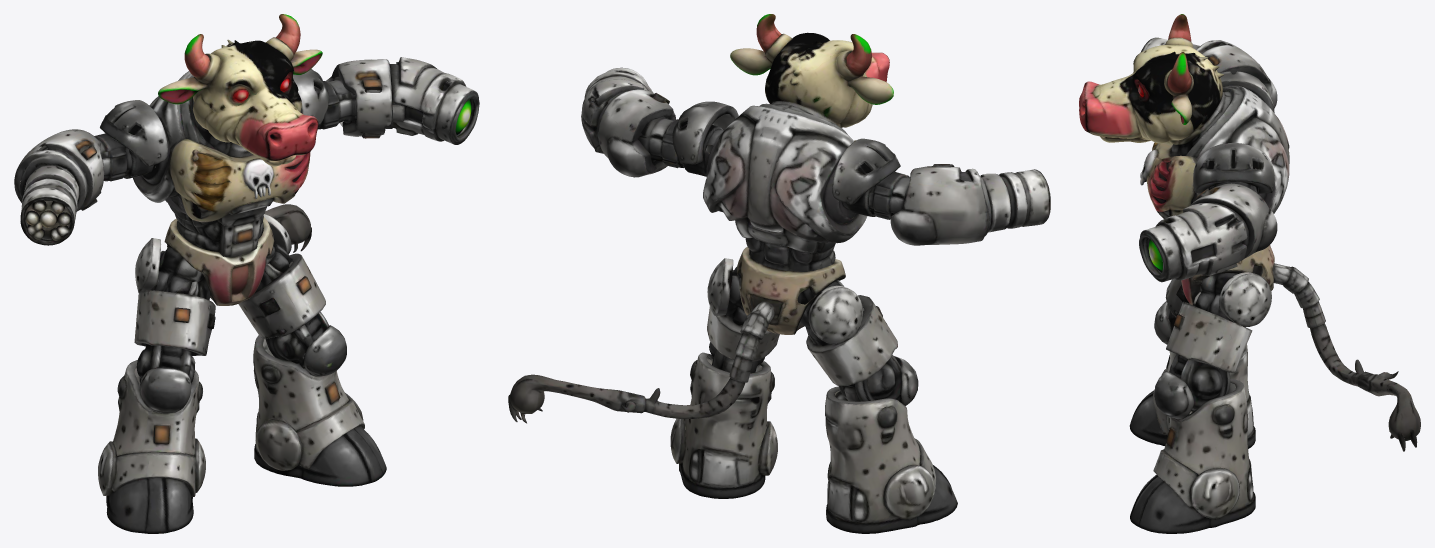
The model's file is RoboCow.glb.
The picture shows the model from 3 angles, left to right: view 1: azimuth 30°, elevation 25°; view 2: azimuth 150°, elevation 25°; view 3: azimuth 270°, elevation 25°; orthographic projection. The views are drawn at different scales.
Visible parts, largest first — view 1: geometry_0; view 2: geometry_0; view 3: geometry_0.
Boxes of the visible parts, bbox=[...] form: geometry_0: bbox=[14, 14, 479, 533]; geometry_0: bbox=[508, 14, 1050, 533]; geometry_0: bbox=[1079, 14, 1420, 533].
Bounding box in the file's own units: 3.1 × 3 × 2.11.
Materials: 1 (1 with a texture image).
